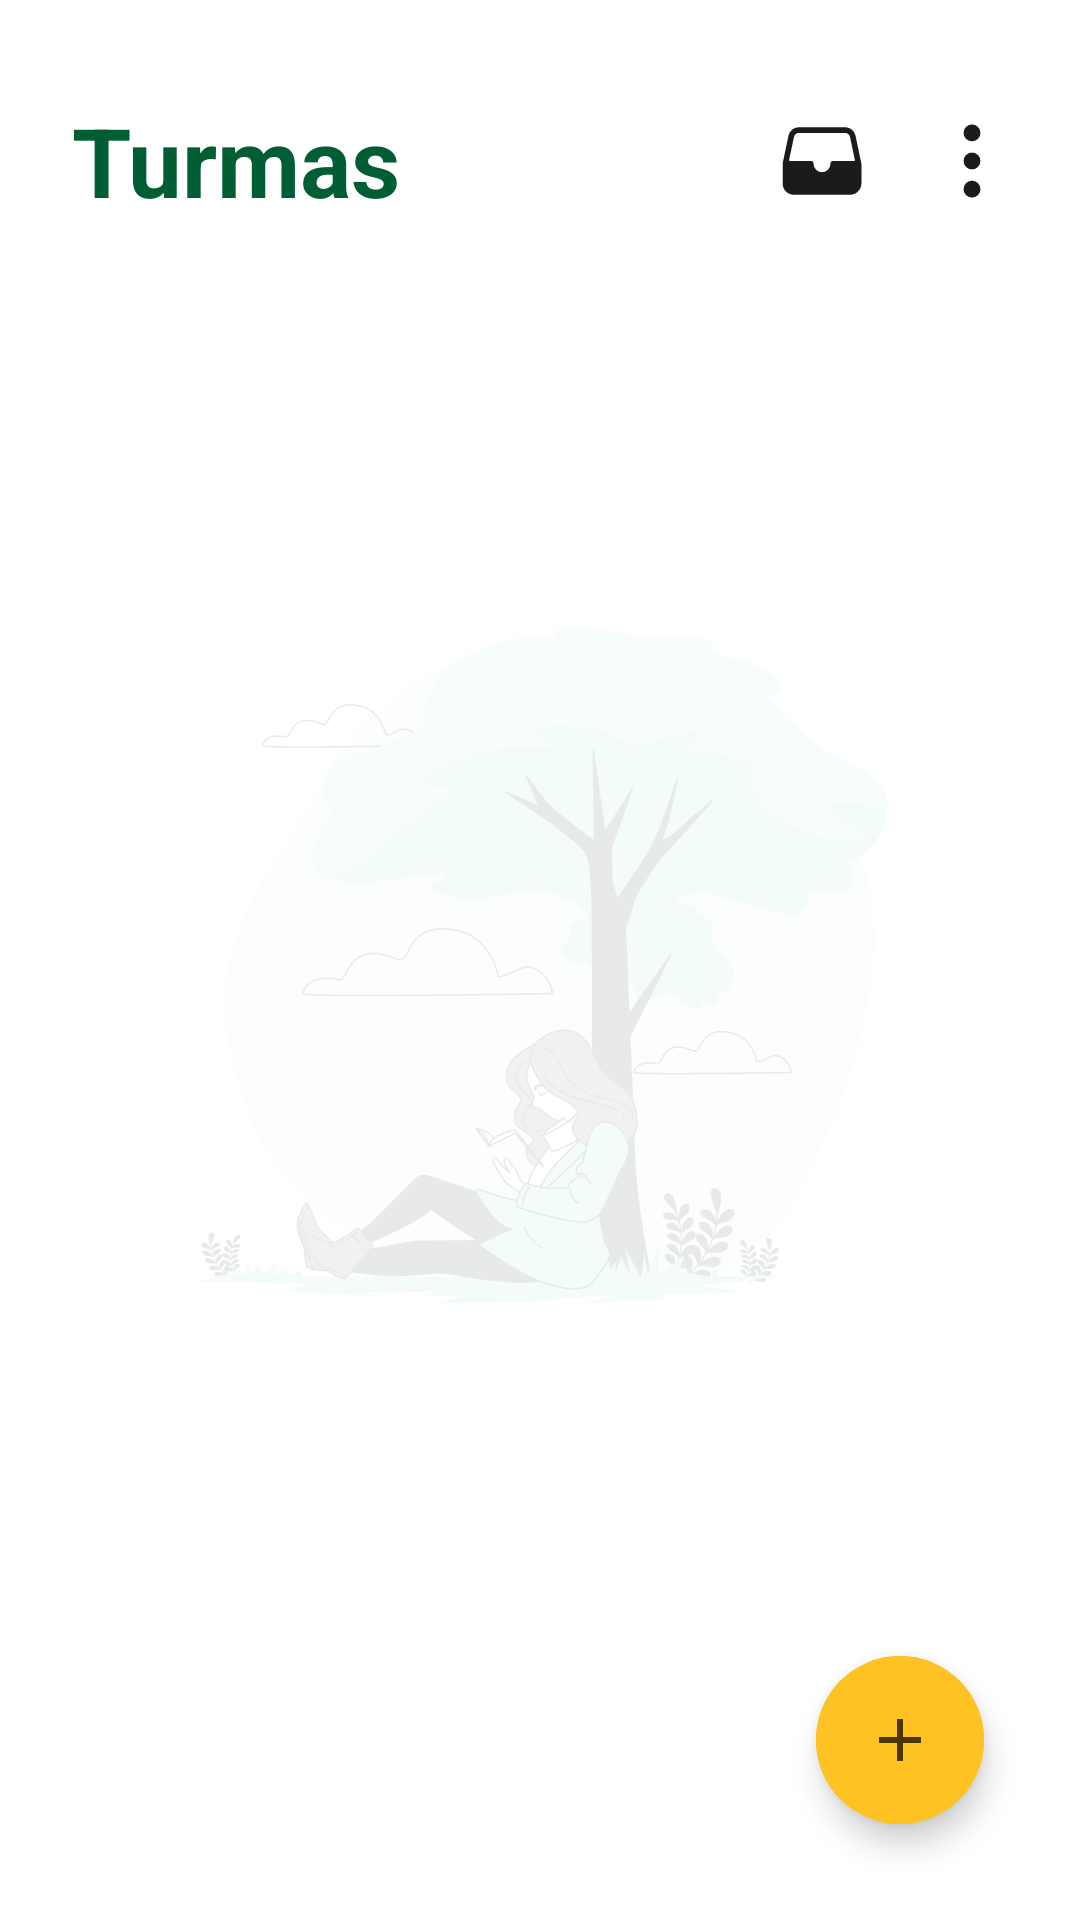

Screen size 1080px x 1920px. Icon name, then its box in pixels as (x1, y1, x2, y2):
add task: (816, 1656, 984, 1824)
ellipsis: (963, 124, 981, 198)
file tray: (782, 127, 862, 195)
